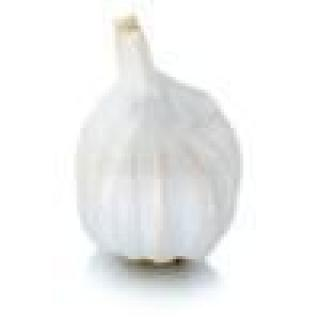Bawang Putih: (56, 14, 261, 270)
